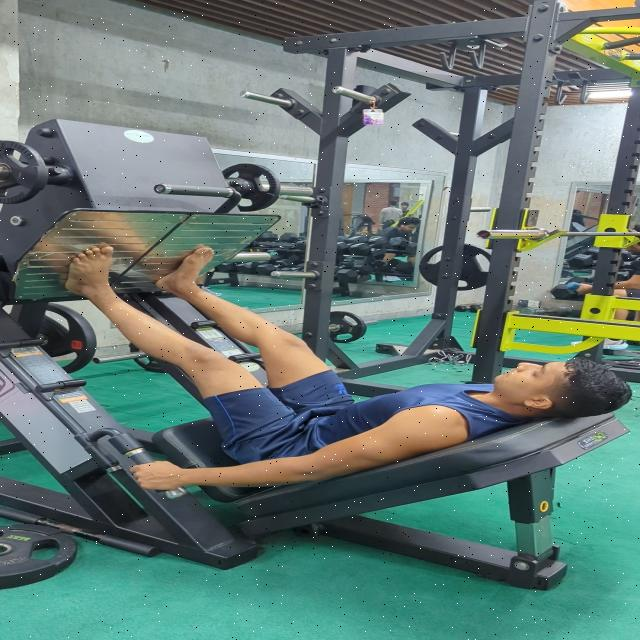Normal_LegPress: (50, 243, 626, 495)
